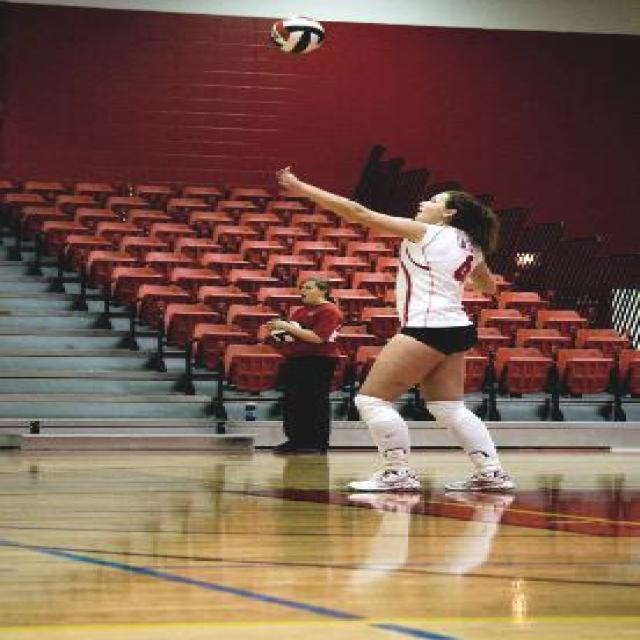volleyball: (270, 16, 326, 54)
